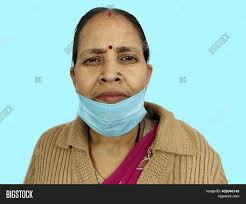mask_weared_incorrect: (79, 16, 148, 134)
